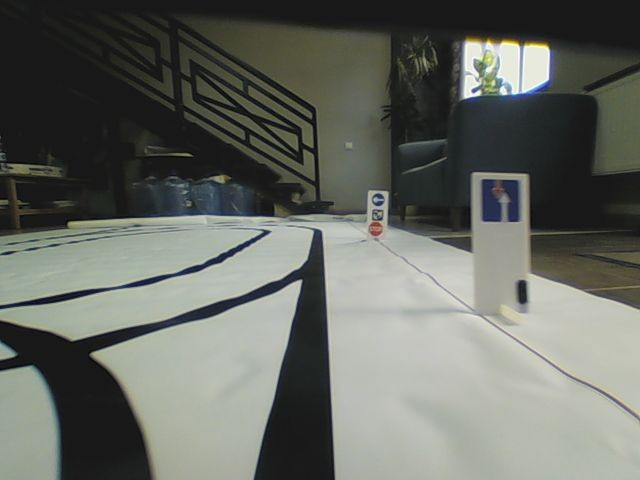priority_movement: (471, 177, 516, 222)
